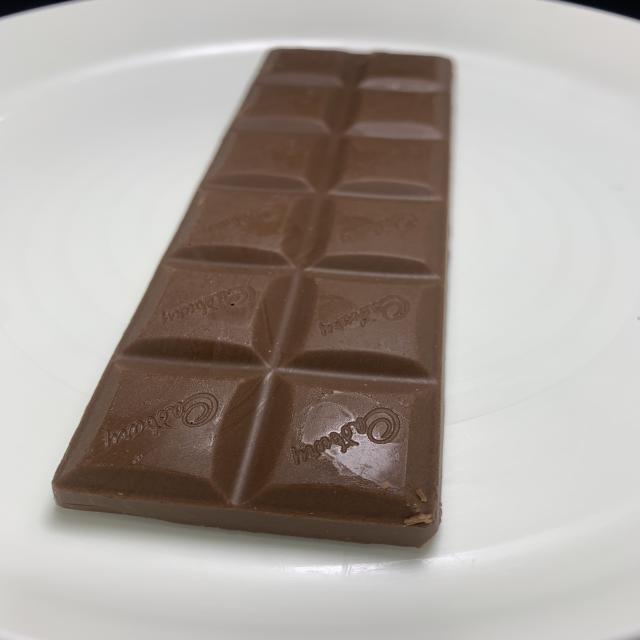Chocolate: (55, 46, 453, 551)
